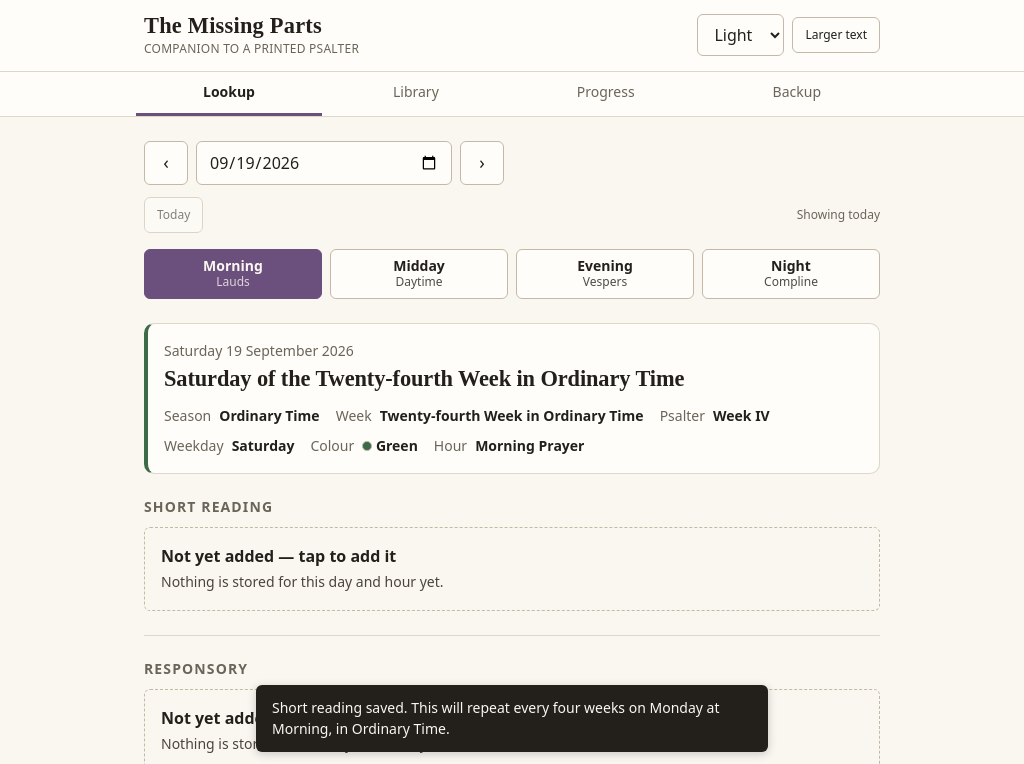
Test: the library › lists stored records and can filter them
Click the button "Library": click(416, 94) [326,72,506,116]
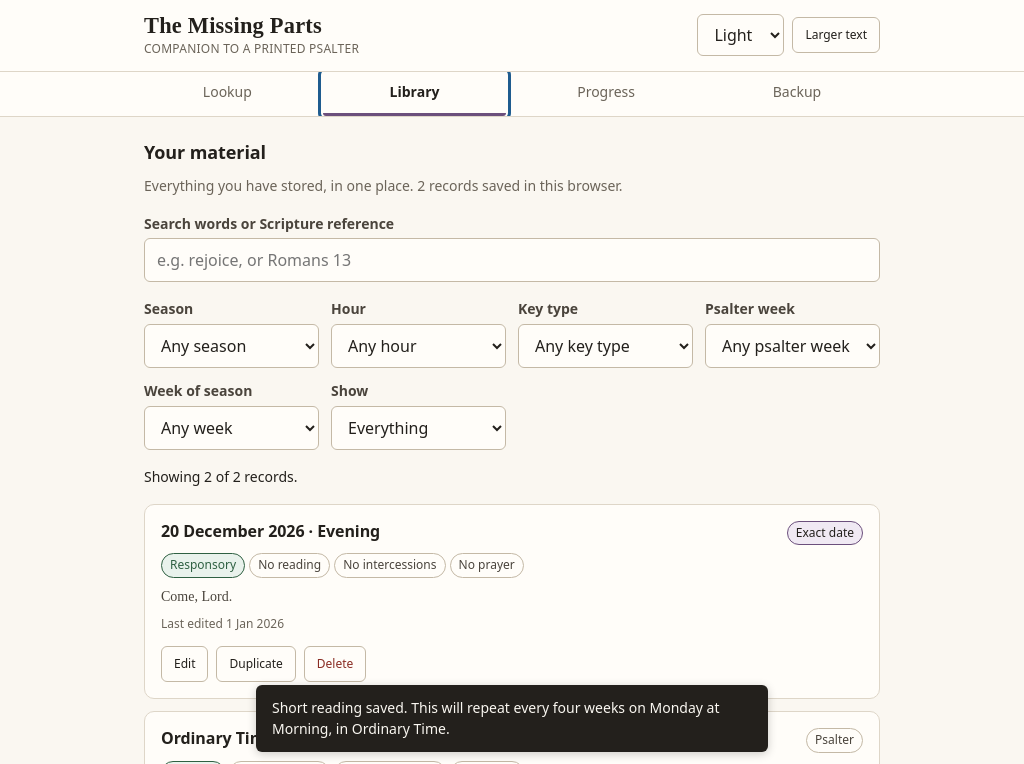
Expected: the text "Showing 2 of 2 records." is shown, [144,466,298,488]
In the search field labelled "Search words or Scripture reference": (512, 260) [144,238,880,282], type "Romans 13"
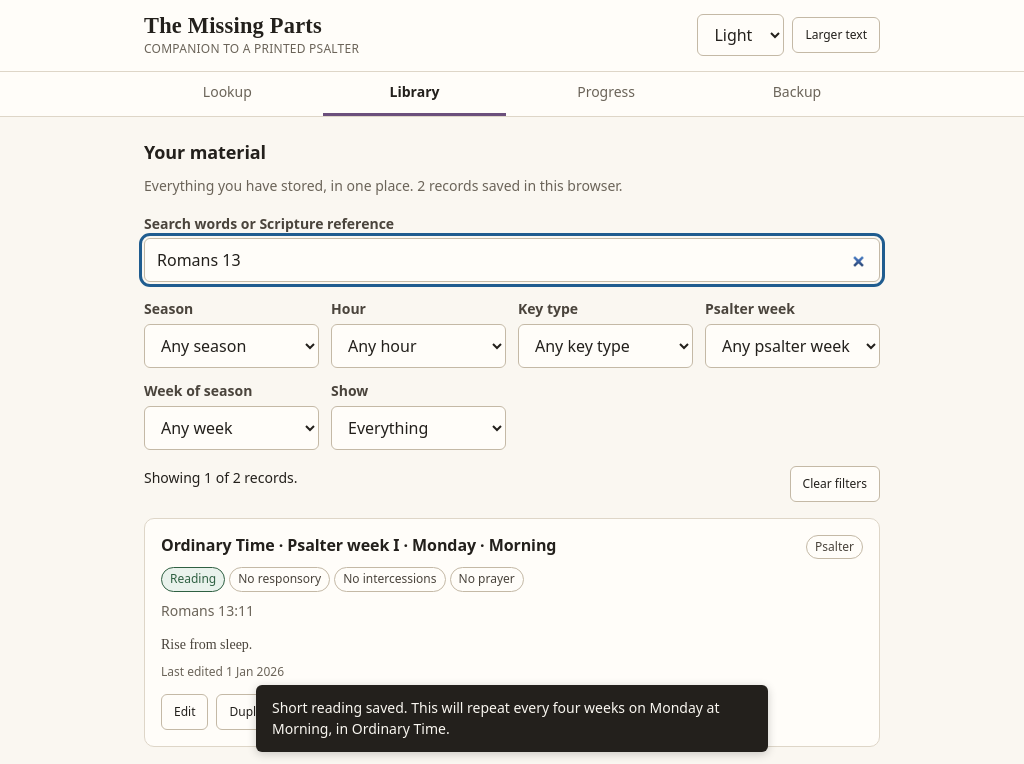
Expected: the text "Showing 1 of 2 records." is shown, [144,467,298,489]
Click the button "Clear filters": click(835, 484) [790,466,880,502]
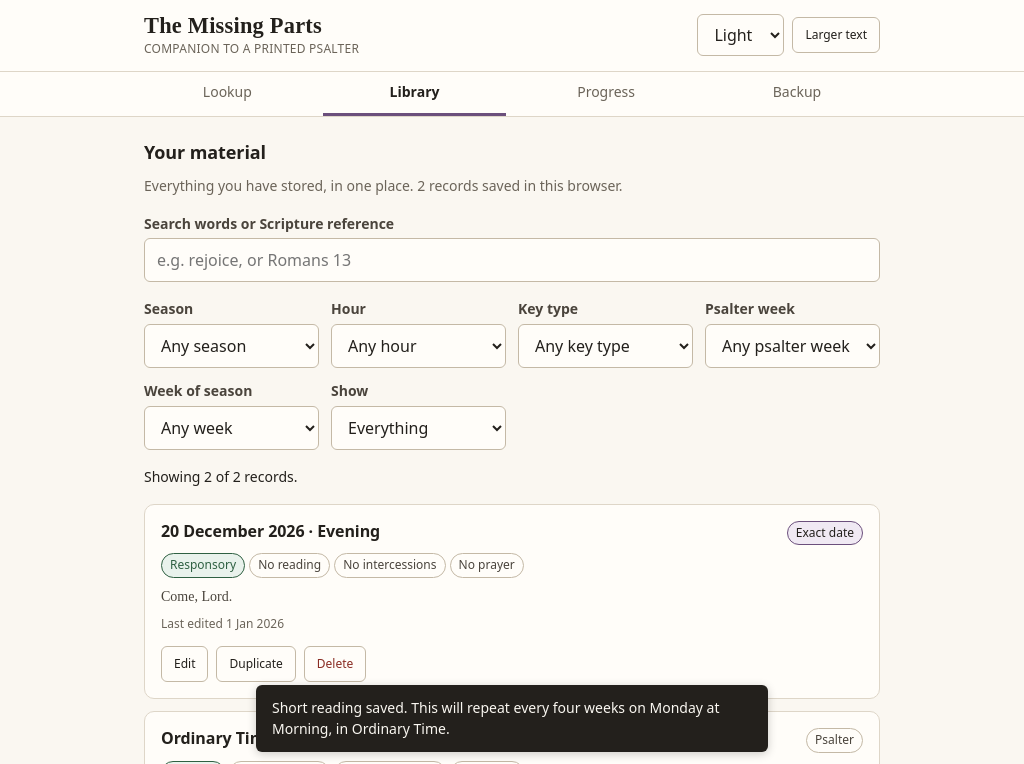
Select "Exact date" in the dropdown labelled "Key type": (606, 346) [518,324,693,368]
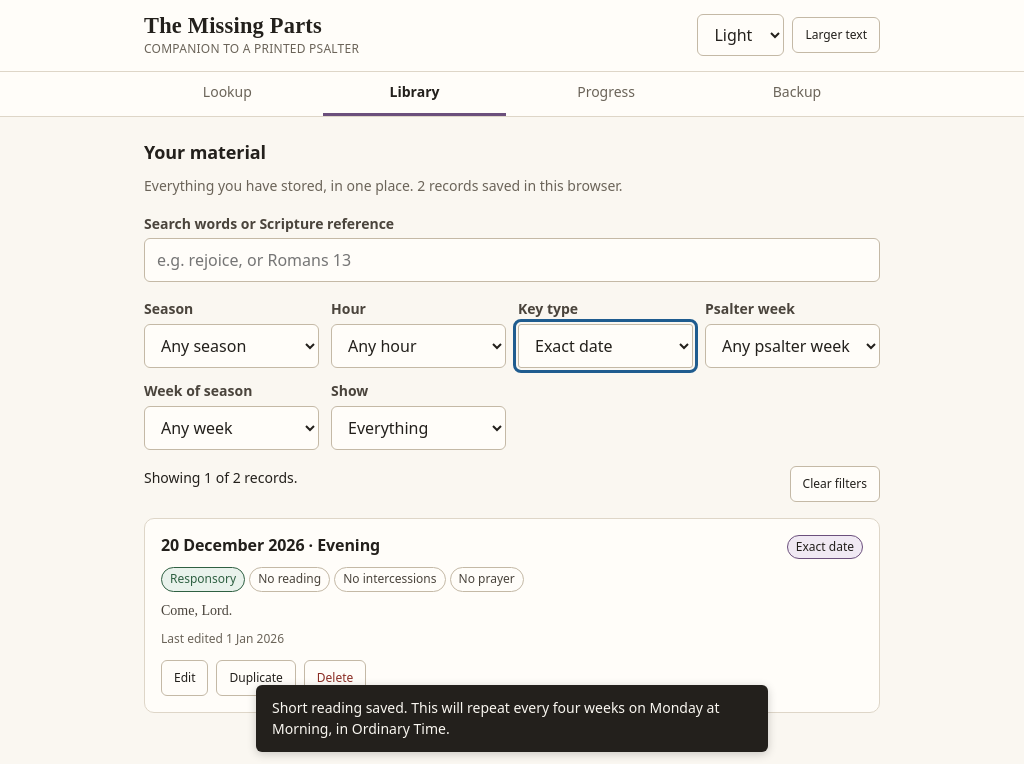
Expected: the heading "20 December 2026 · Evening" is shown, [161,535,380,559]
Expected: the text "Showing 1 of 2 records." is shown, [144,467,298,489]
